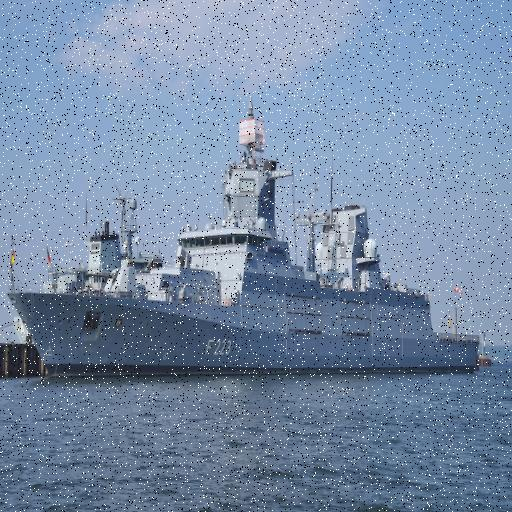Fragata: (3, 84, 485, 378)
